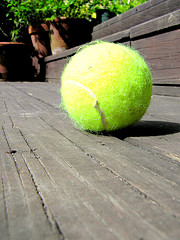tennis ball: (58, 39, 154, 135)
